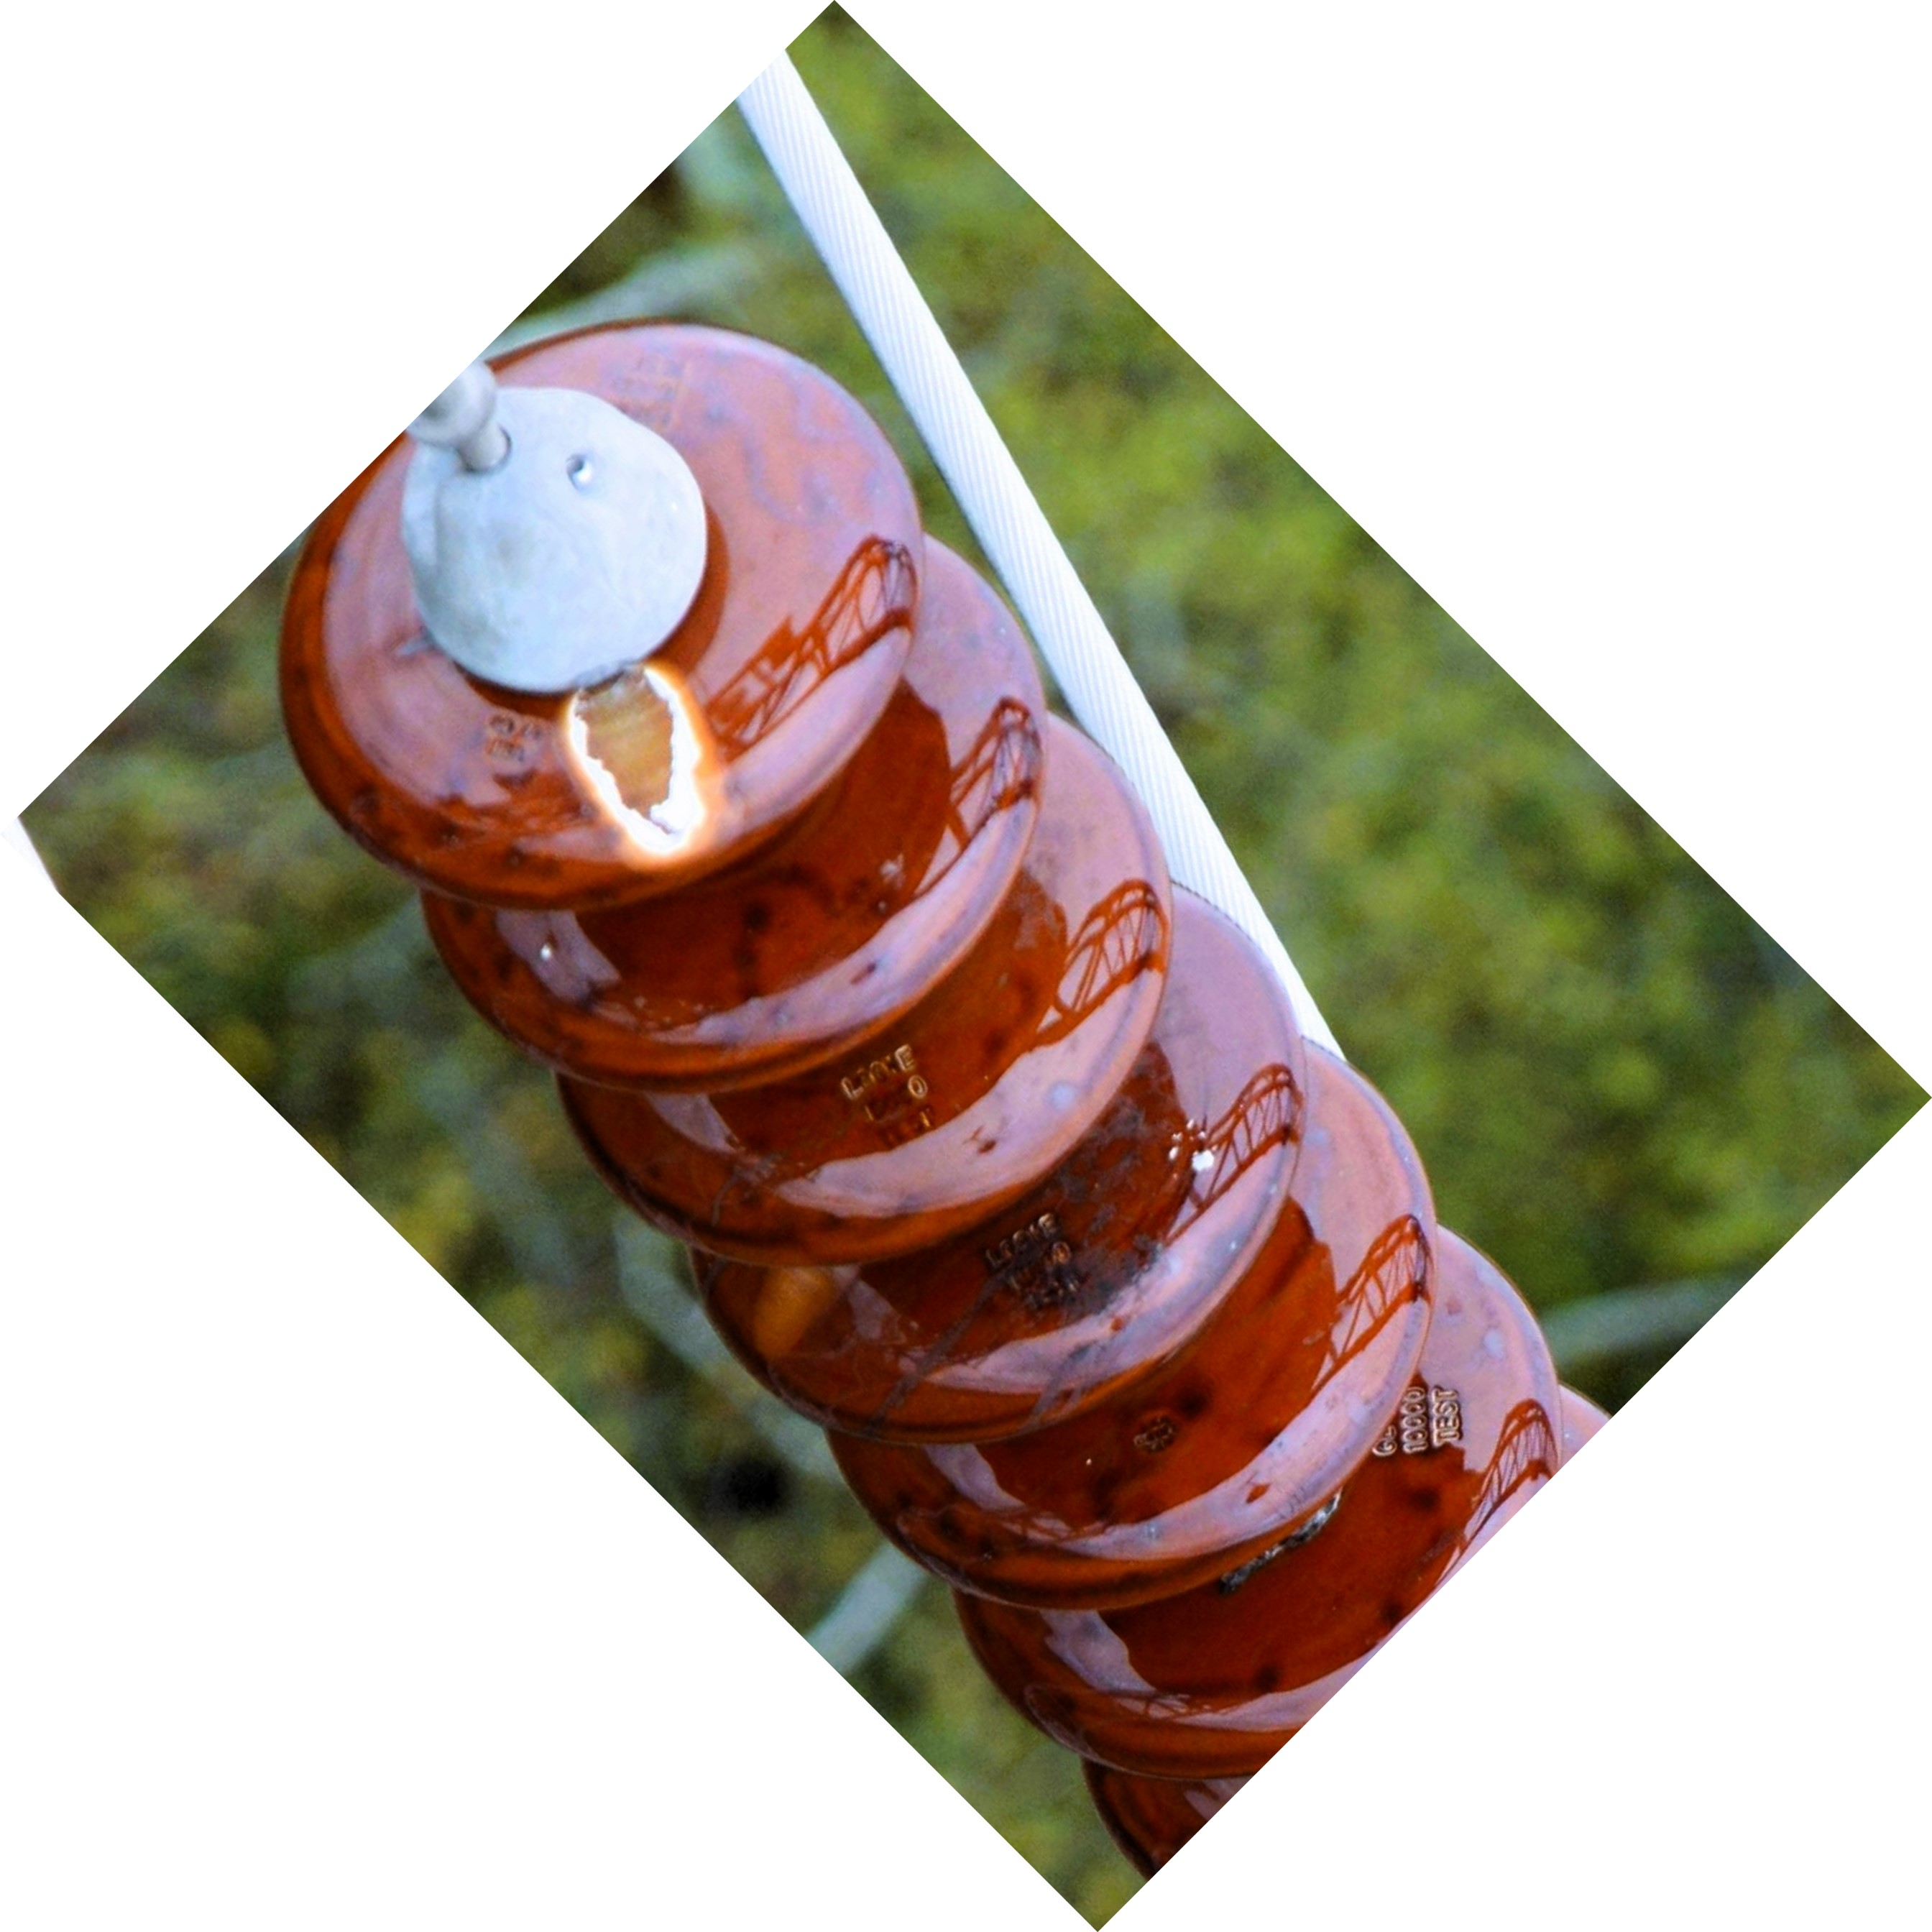Insulator flashover: (265, 310, 925, 932)
